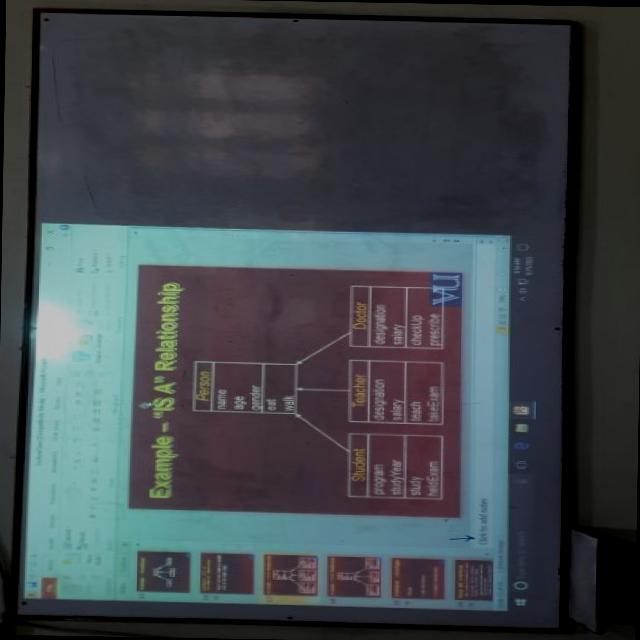Slide: (19, 221, 544, 610)
White-board: (12, 8, 583, 627)
